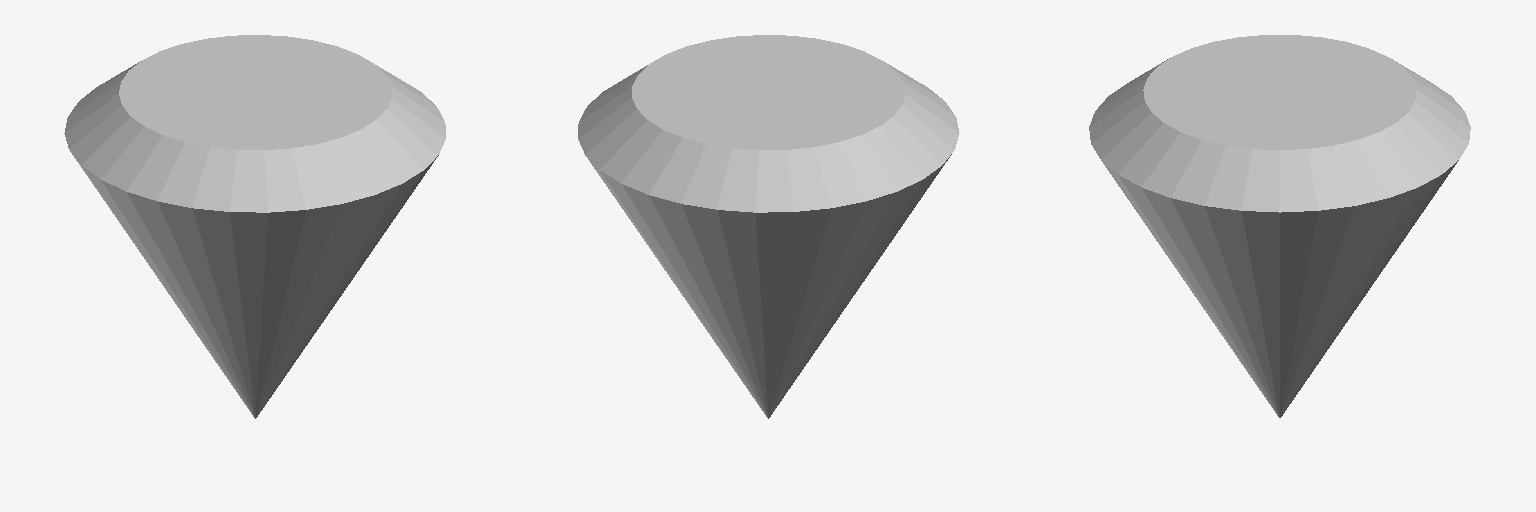
The model's file is complex.obj.
3 renders of one model, left to right at view 1: azimuth 30°, elevation 25°; view 2: azimuth 150°, elevation 25°; view 3: azimuth 270°, elevation 25°, orthographic.
Parts seen in each view (by area): view 1: Diamond; view 2: Diamond; view 3: Diamond.
Part boxes in pixels (left/top/right/bottom): Diamond: left=64, top=35, right=445, bottom=418; Diamond: left=578, top=35, right=959, bottom=418; Diamond: left=1089, top=35, right=1470, bottom=417.
Size of the model in its own units: 1.76 by 1.66 by 1.76.